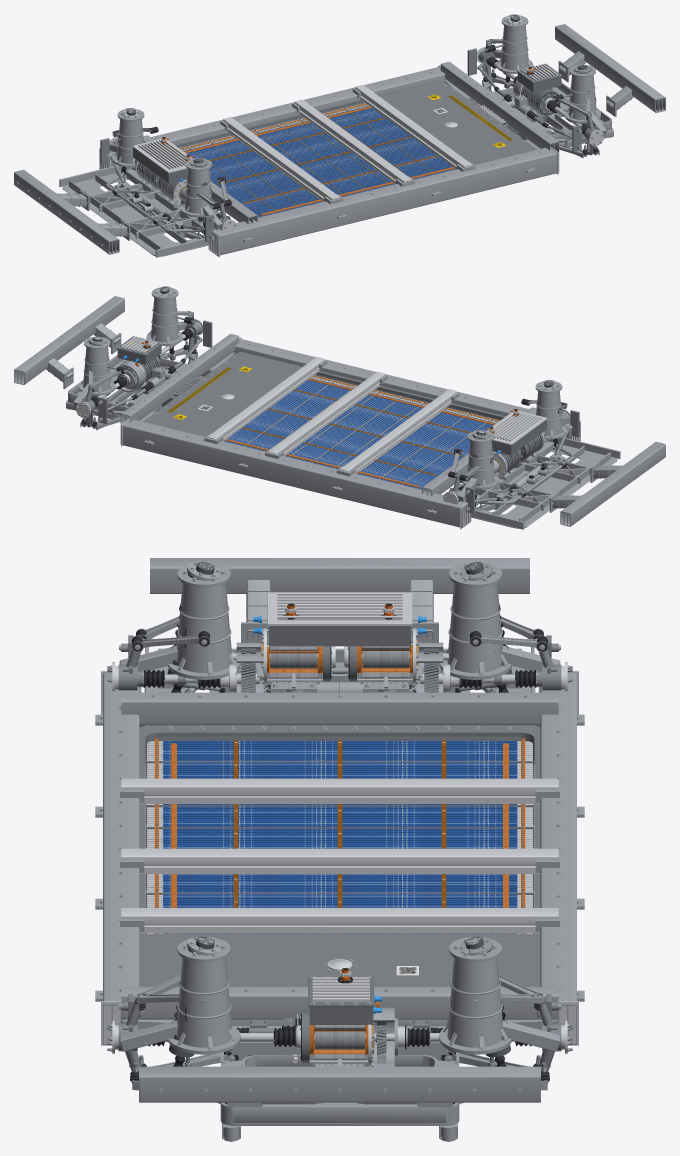
Rendered from denza-z9-xray.glb.
3 views of the same model, one above another, from view 1: azimuth 30°, elevation 25°; view 2: azimuth 150°, elevation 25°; view 3: azimuth 270°, elevation 25° (orthographic). The views are drawn at different scales.
Visible parts, largest first — view 1: XR_Frame_Floor, XR_Battery, XR_Battery_Lid, XR_Frame_SubR, XR_Frame_CrashF, XR_Frame_CrashR, XR_Susp_FL_Tower, XR_Susp_RR_Tower, XR_Susp_FR_Tower, XR_Frame_SubF, XR_Susp_RL_Tower, XR_Battery_Busbars (+15 smaller); view 2: XR_Frame_Floor, XR_Battery, XR_Battery_Lid, XR_Frame_SubR, XR_Frame_CrashF, XR_Frame_CrashR, XR_Susp_FR_Tower, XR_Susp_RL_Tower, XR_Susp_FL_Tower, XR_Frame_SubF, XR_Susp_RR_Tower, XR_Battery_Busbars (+15 smaller); view 3: XR_Frame_Floor, XR_Battery, XR_Battery_Lid, XR_Frame_CrashF, XR_Frame_CrashR, XR_Frame_SubF, XR_Susp_FL_Tower, XR_Susp_FR_Tower, XR_Susp_RL_Tower, XR_Susp_RR_Tower, XR_Drive_RL_Inverter, XR_Drive_RR_Inverter (+26 smaller).
Boxes of the visible parts, x1=… form: XR_Frame_Floor: x1=99, y1=61, x2=559, y2=257; XR_Battery: x1=180, y1=103, x2=455, y2=217; XR_Battery_Lid: x1=174, y1=80, x2=536, y2=217; XR_Frame_SubR: x1=59, y1=165, x2=226, y2=257; XR_Frame_CrashF: x1=555, y1=24, x2=665, y2=116; XR_Frame_CrashR: x1=14, y1=169, x2=130, y2=254; XR_Susp_FL_Tower: x1=492, y1=15, x2=533, y2=73; XR_Susp_RR_Tower: x1=180, y1=158, x2=222, y2=229; XR_Susp_FR_Tower: x1=564, y1=64, x2=606, y2=135; XR_Frame_SubF: x1=473, y1=82, x2=613, y2=146; XR_Susp_RL_Tower: x1=109, y1=109, x2=144, y2=167; XR_Battery_Busbars: x1=180, y1=103, x2=454, y2=215; XR_Frame_Floor: x1=120, y1=333, x2=580, y2=529; XR_Battery: x1=224, y1=375, x2=499, y2=489; XR_Battery_Lid: x1=143, y1=352, x2=505, y2=489; XR_Frame_SubR: x1=453, y1=437, x2=620, y2=529; XR_Frame_CrashF: x1=14, y1=296, x2=124, y2=388; XR_Frame_CrashR: x1=549, y1=441, x2=665, y2=526; XR_Susp_FR_Tower: x1=146, y1=287, x2=187, y2=345; XR_Susp_RL_Tower: x1=457, y1=430, x2=499, y2=501; XR_Susp_FL_Tower: x1=73, y1=336, x2=115, y2=407; XR_Frame_SubF: x1=66, y1=355, x2=206, y2=418; XR_Susp_RR_Tower: x1=535, y1=381, x2=570, y2=439; XR_Battery_Busbars: x1=225, y1=375, x2=499, y2=487; XR_Frame_Floor: x1=95, y1=670, x2=584, y2=1045; XR_Battery: x1=146, y1=741, x2=533, y2=934; XR_Battery_Lid: x1=139, y1=725, x2=540, y2=986; XR_Frame_CrashF: x1=139, y1=1066, x2=540, y2=1107; XR_Frame_CrashR: x1=150, y1=558, x2=529, y2=642; XR_Frame_SubF: x1=220, y1=1019, x2=459, y2=1141; XR_Susp_FL_Tower: x1=439, y1=937, x2=560, y2=1054; XR_Susp_FR_Tower: x1=119, y1=937, x2=240, y2=1054; XR_Susp_RL_Tower: x1=439, y1=562, x2=560, y2=679; XR_Susp_RR_Tower: x1=119, y1=562, x2=240, y2=679; XR_Drive_RL_Inverter: x1=314, y1=592, x2=426, y2=646; XR_Drive_RR_Inverter: x1=253, y1=592, x2=365, y2=646.
Size of the model in its own units: 4.75 by 0.6875 by 1.8.
Materials: 28 (12 with a texture image).
